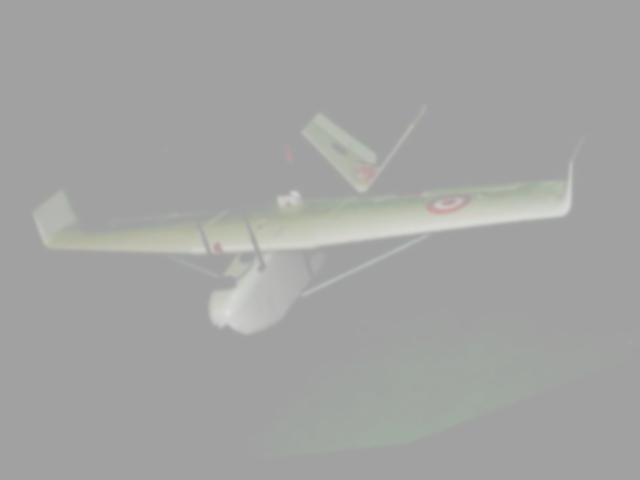iha: (5, 8, 621, 408)
